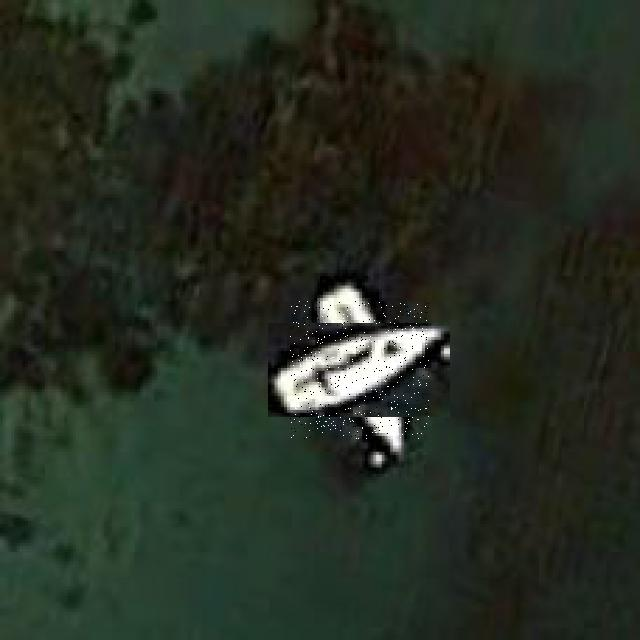boat: (290, 301, 429, 439)
